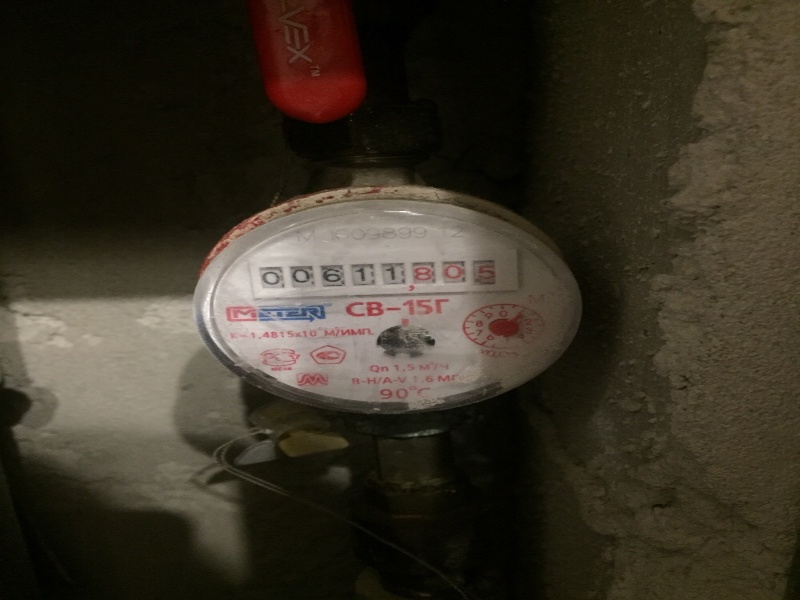meter: (254, 259, 506, 290)
